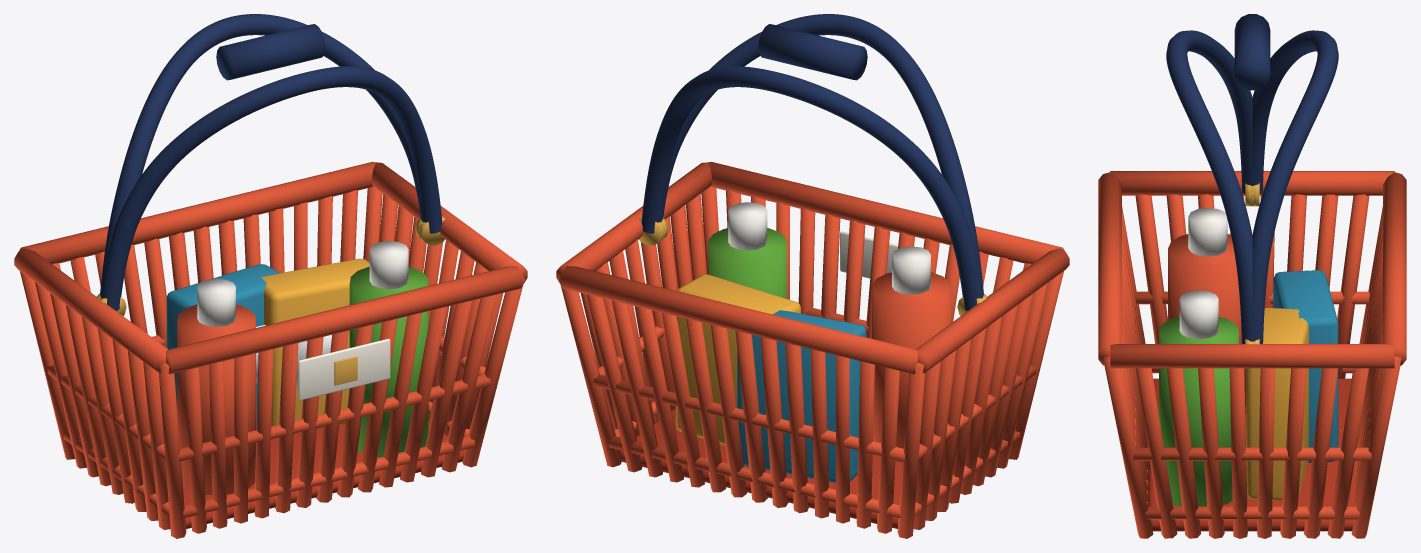
Rendered from ShoppingBasket.fbx.
3 views of the same model, side by side, from view 1: azimuth 30°, elevation 25°; view 2: azimuth 150°, elevation 25°; view 3: azimuth 270°, elevation 25° (orthographic).
Visible parts, largest first — view 1: Basket, Item_0, Item_3, Item_1, Item_2; view 2: Basket, Item_0, Item_2, Item_3, Item_1; view 3: Basket, Item_3, Item_0, Item_1, Item_2.
Boxes of the visible parts, x1=… form: Basket: x1=14, y1=14, x2=527, y2=538; Item_0: x1=177, y1=278, x2=255, y2=494; Item_3: x1=349, y1=241, x2=428, y2=457; Item_1: x1=261, y1=258, x2=369, y2=428; Item_2: x1=166, y1=264, x2=283, y2=430; Basket: x1=556, y1=14, x2=1069, y2=538; Item_0: x1=872, y1=246, x2=950, y2=462; Item_2: x1=737, y1=310, x2=866, y2=482; Item_3: x1=708, y1=202, x2=786, y2=298; Item_1: x1=676, y1=274, x2=800, y2=445; Basket: x1=1098, y1=14, x2=1406, y2=538; Item_3: x1=1159, y1=290, x2=1238, y2=506; Item_0: x1=1168, y1=208, x2=1246, y2=414; Item_1: x1=1246, y1=307, x2=1308, y2=500; Item_2: x1=1273, y1=270, x2=1338, y2=462.
Size of the model in its own units: 0.4866 by 0.5316 by 0.3466.
